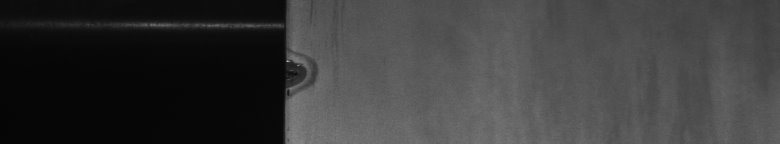hb: (296, 4, 324, 99)
